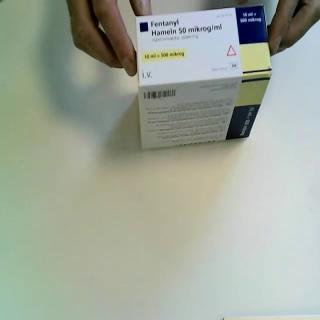fentanyl50ug_ml: (134, 3, 274, 153)
